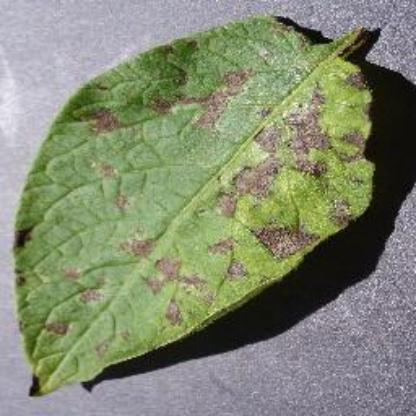Early-Blight: (16, 10, 384, 398)
